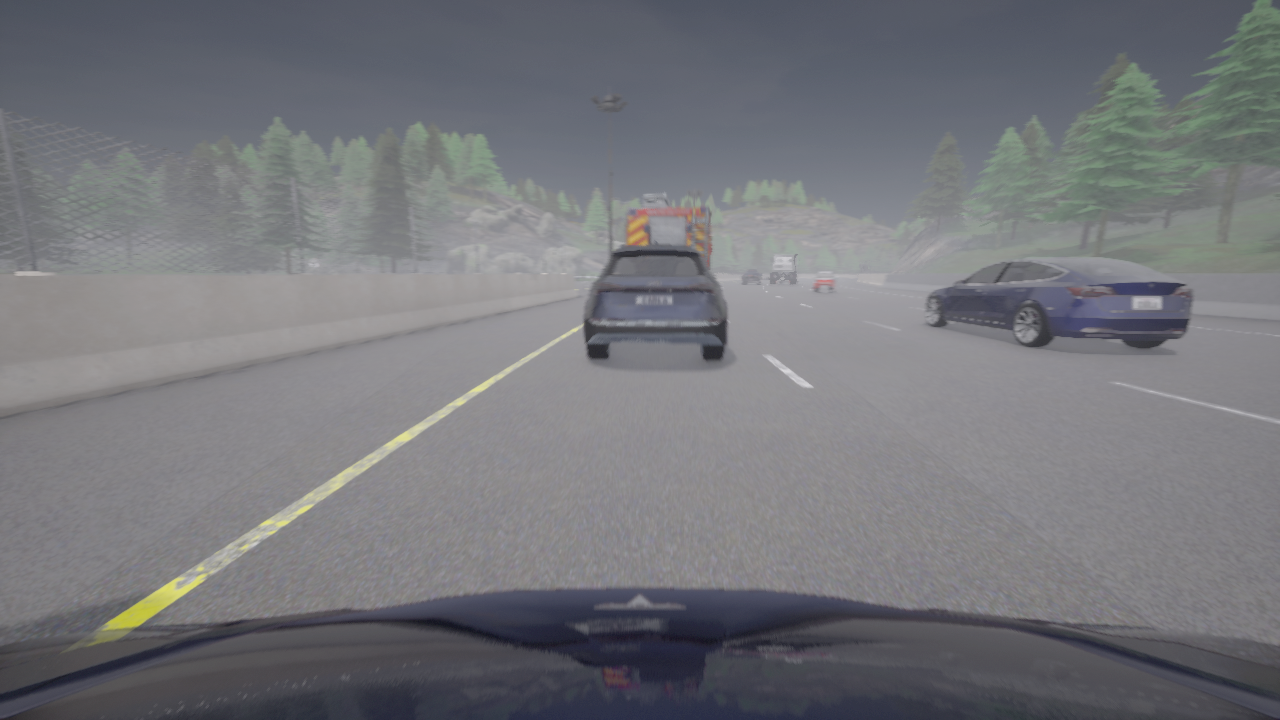cyclist: (0, 588, 1279, 719), (925, 258, 1194, 349), (584, 242, 726, 361), (625, 194, 711, 270), (769, 253, 800, 285), (813, 271, 837, 293), (742, 271, 761, 284), (710, 271, 716, 278), (780, 281, 788, 282)
